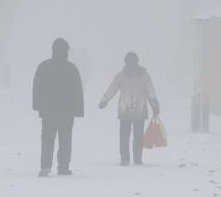person: (97, 50, 169, 167), (31, 36, 85, 178)
